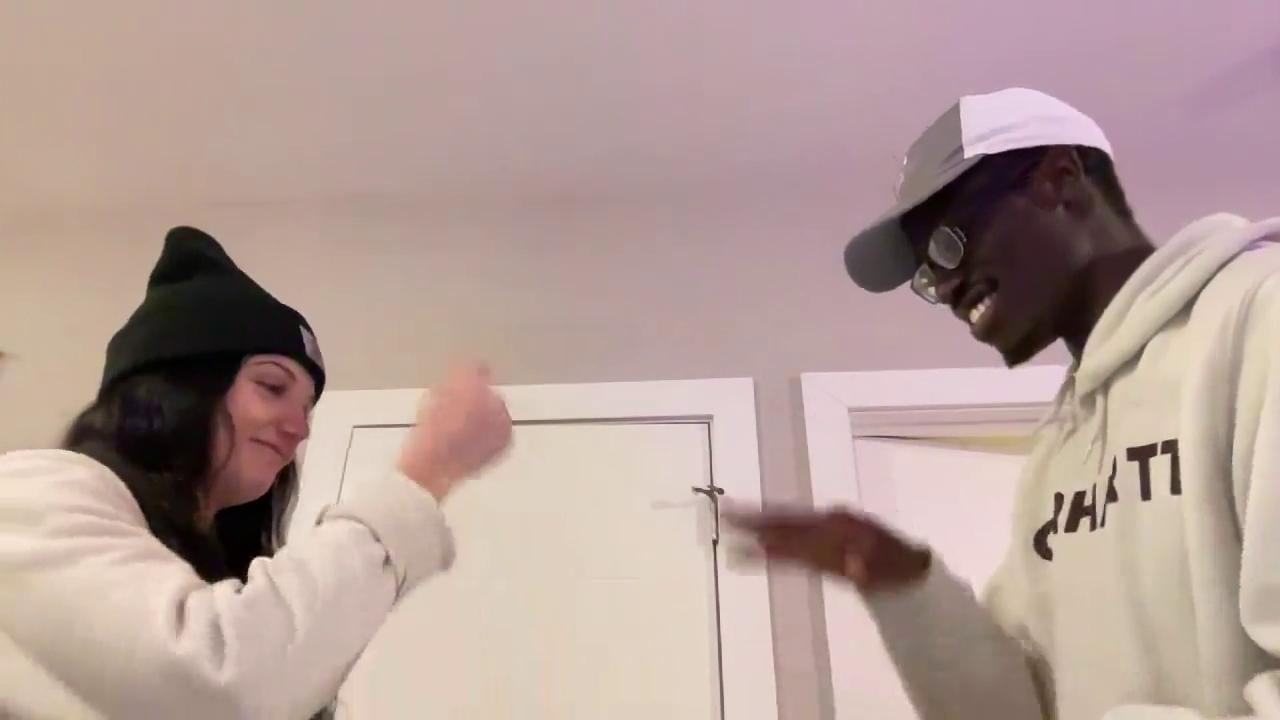Paper: (703, 500, 896, 591)
Rock: (403, 362, 513, 483)
